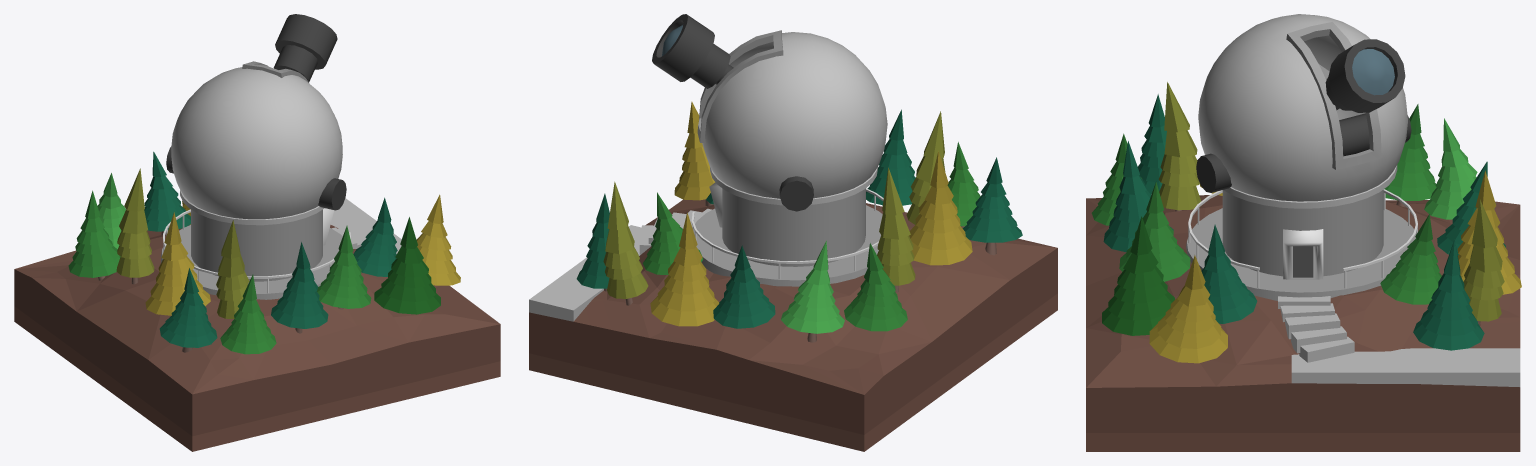
The model's file is balloon.glb.
The picture shows the model from 3 angles, left to right: view 1: azimuth 30°, elevation 25°; view 2: azimuth 150°, elevation 25°; view 3: azimuth 270°, elevation 25°; orthographic projection. The views are drawn at different scales.
Parts seen in each view (by area): view 1: land_72.002, land_72.022, land_72.012, land_72.003, land_72.020, land_72.011, land_72.021, land_72.018, land_72.006, land_72.009, land_72.007, land_72.005 (+6 smaller); view 2: land_72.002, land_72.022, land_72.012, land_72.015, land_72.020, land_72.010, land_72.017, land_72.018, land_72.019, land_72.011, land_72.006, land_72.023 (+8 smaller); view 3: land_72.022, land_72.002, land_72.012, land_72.023, land_72.005, land_72.003, land_72.013, land_72.016, land_72.008, land_72.017, land_72.014, land_72.004 (+10 smaller).
Boxes of the visible parts, left/top/right/bottom form: land_72.002: left=14, top=225, right=500, bottom=436; land_72.022: left=161, top=14, right=346, bottom=299; land_72.012: left=14, top=306, right=500, bottom=451; land_72.003: left=374, top=217, right=440, bottom=314; land_72.020: left=145, top=212, right=210, bottom=315; land_72.011: left=116, top=168, right=154, bottom=284; land_72.021: left=271, top=242, right=328, bottom=333; land_72.018: left=68, top=190, right=120, bottom=280; land_72.006: left=159, top=268, right=217, bottom=352; land_72.009: left=317, top=225, right=371, bottom=309; land_72.007: left=220, top=274, right=276, bottom=354; land_72.005: left=416, top=194, right=460, bottom=285; land_72.002: left=529, top=199, right=1057, bottom=434; land_72.022: left=652, top=14, right=887, bottom=286; land_72.012: left=529, top=293, right=1057, bottom=451; land_72.015: left=650, top=212, right=719, bottom=326; land_72.020: left=909, top=151, right=972, bottom=265; land_72.010: left=781, top=240, right=844, bottom=342; land_72.017: left=603, top=181, right=648, bottom=305; land_72.018: left=844, top=243, right=907, bottom=331; land_72.019: left=713, top=245, right=775, bottom=328; land_72.011: left=877, top=167, right=915, bottom=292; land_72.006: left=962, top=157, right=1022, bottom=255; land_72.023: left=529, top=225, right=641, bottom=321; land_72.022: left=1186, top=14, right=1415, bottom=300; land_72.002: left=1086, top=195, right=1520, bottom=432; land_72.012: left=1086, top=433, right=1520, bottom=451; land_72.023: left=1291, top=348, right=1520, bottom=386; land_72.005: left=1149, top=255, right=1227, bottom=363; land_72.003: left=1102, top=216, right=1174, bottom=335; land_72.013: left=1413, top=239, right=1484, bottom=350; land_72.016: left=1278, top=296, right=1354, bottom=362; land_72.008: left=1158, top=82, right=1201, bottom=211; land_72.017: left=1463, top=199, right=1504, bottom=325; land_72.014: left=1380, top=214, right=1441, bottom=304; land_72.004: left=1201, top=224, right=1257, bottom=323.
Bounding box in the file's own units: 15 × 13.85 × 15.06.
2 materials, 2 textured.
